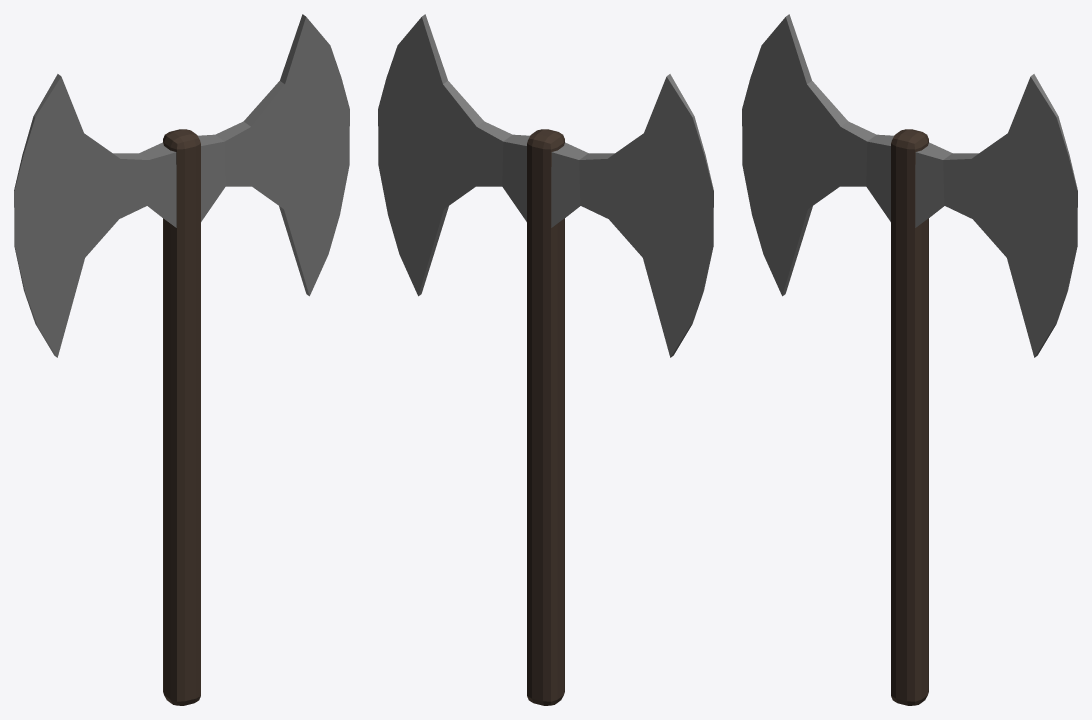
The model's file is battleAxe.fbx.
The picture shows the model from 3 angles, left to right: view 1: azimuth 30°, elevation 25°; view 2: azimuth 150°, elevation 25°; view 3: azimuth 330°, elevation 25°; orthographic projection.
Parts seen in each view (by area): view 1: Blade, Handle; view 2: Blade, Handle; view 3: Blade, Handle.
Part boxes in pixels (left/top/right/bottom): Blade: left=14, top=14, right=349, bottom=357; Handle: left=163, top=129, right=200, bottom=705; Blade: left=378, top=14, right=713, bottom=357; Handle: left=527, top=129, right=564, bottom=705; Blade: left=742, top=14, right=1077, bottom=357; Handle: left=891, top=129, right=928, bottom=705.
Bounding box in the file's own units: 1.74 × 3.26 × 0.1542.
